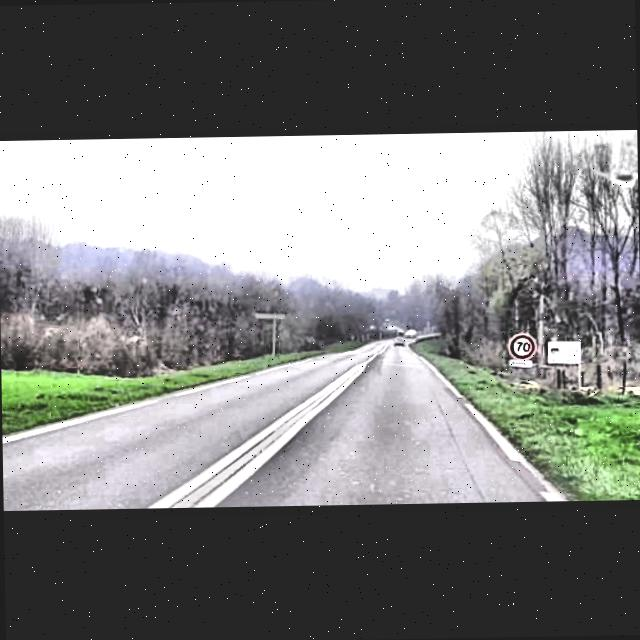speed_70: (510, 336, 534, 360)
